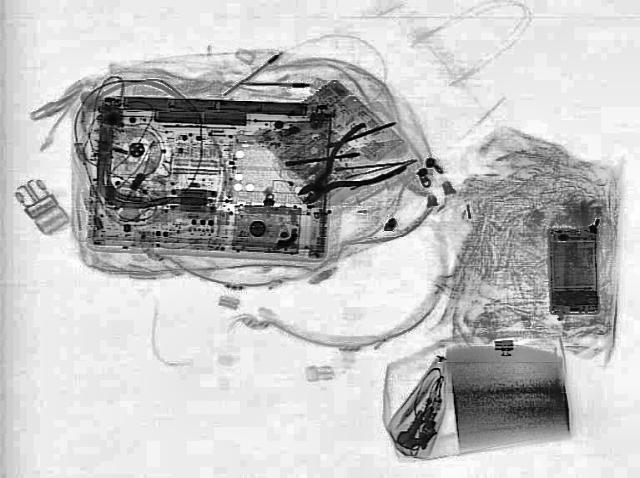Pliers: (272, 121, 416, 217)
